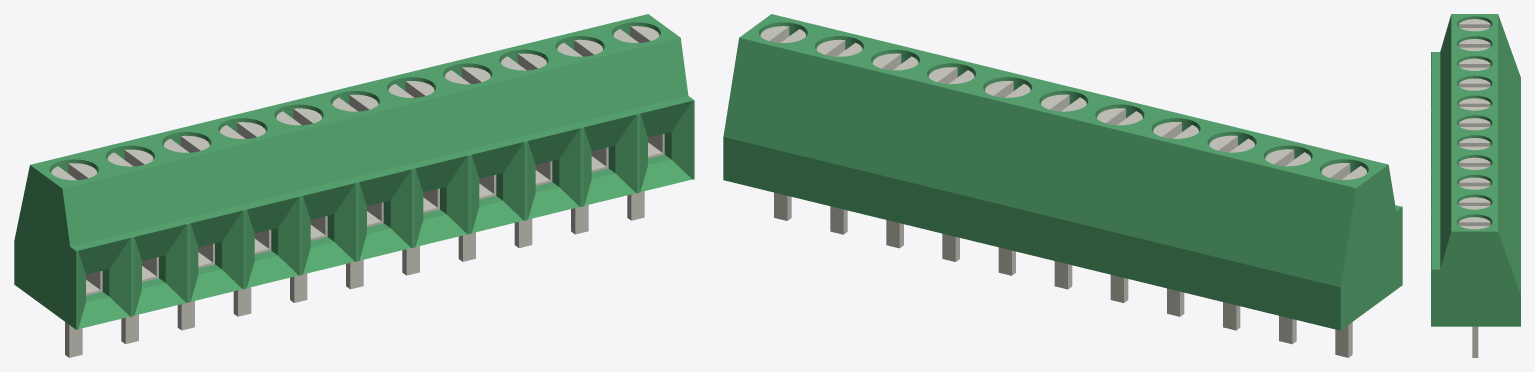
File: kc-terminalblock_phoenix_mkds-1-11-3.81_1x11_p3.81mm_horizontal.glb
3 views of the same model, side by side, from view 1: azimuth 30°, elevation 25°; view 2: azimuth 150°, elevation 25°; view 3: azimuth 270°, elevation 25° (orthographic). The views are drawn at different scales.
Visible parts, largest first — view 1: 0.08333333333333333_0.4166666666666667_0.16666666666666666_0, 0.6666666666666666_0.6666666666666666_0.5833333333333334_0.8; view 2: 0.08333333333333333_0.4166666666666667_0.16666666666666666_0, 0.6666666666666666_0.6666666666666666_0.5833333333333334_0.8; view 3: 0.08333333333333333_0.4166666666666667_0.16666666666666666_0, 0.6666666666666666_0.6666666666666666_0.5833333333333334_0.8.
Part boxes in pixels (bbox=[...]): 0.08333333333333333_0.4166666666666667_0.16666666666666666_0: bbox=[14, 14, 694, 329]; 0.6666666666666666_0.6666666666666666_0.5833333333333334_0.8: bbox=[51, 26, 664, 357]; 0.08333333333333333_0.4166666666666667_0.16666666666666666_0: bbox=[723, 14, 1402, 330]; 0.6666666666666666_0.6666666666666666_0.5833333333333334_0.8: bbox=[760, 26, 1366, 357]; 0.08333333333333333_0.4166666666666667_0.16666666666666666_0: bbox=[1431, 14, 1520, 326]; 0.6666666666666666_0.6666666666666666_0.5833333333333334_0.8: bbox=[1458, 19, 1490, 357].
Bounding box in the file's own units: 4.19 × 1.2 × 0.7301.
